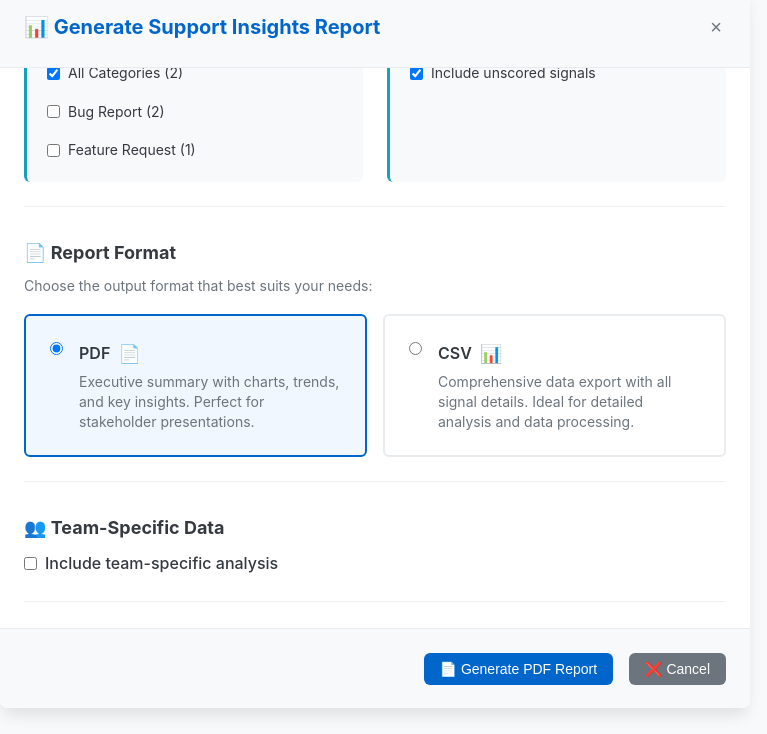
Test case: ReportGenerationModal › User Interactions › allows changing format selection
(page scrolled)
Click the radio button showing "csv" at [416, 348], box [409,342,422,355]
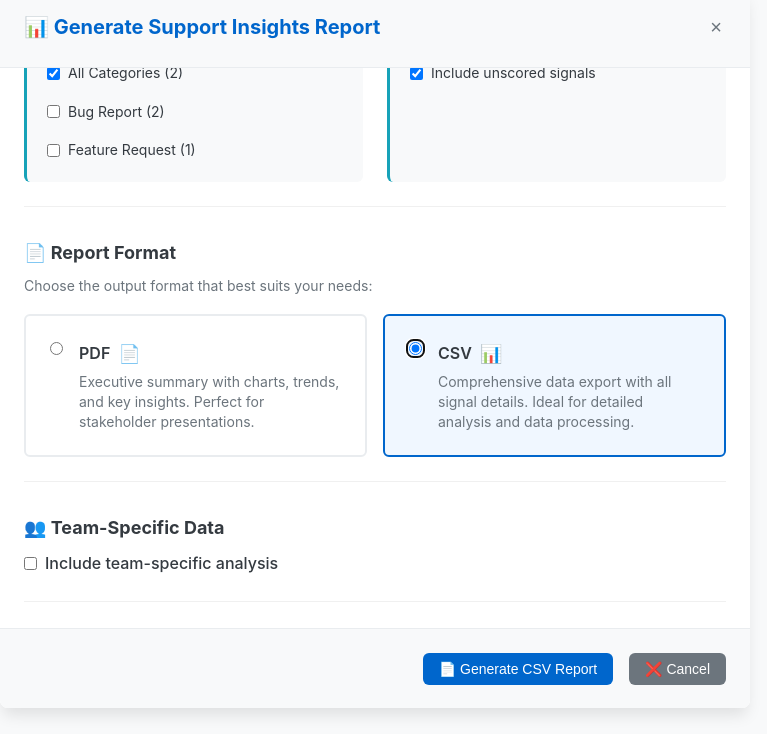
Check: the radio button showing "csv" is checked, box [409,342,422,355]
Check: the radio button showing "pdf" is not checked, box [50,342,63,355]
